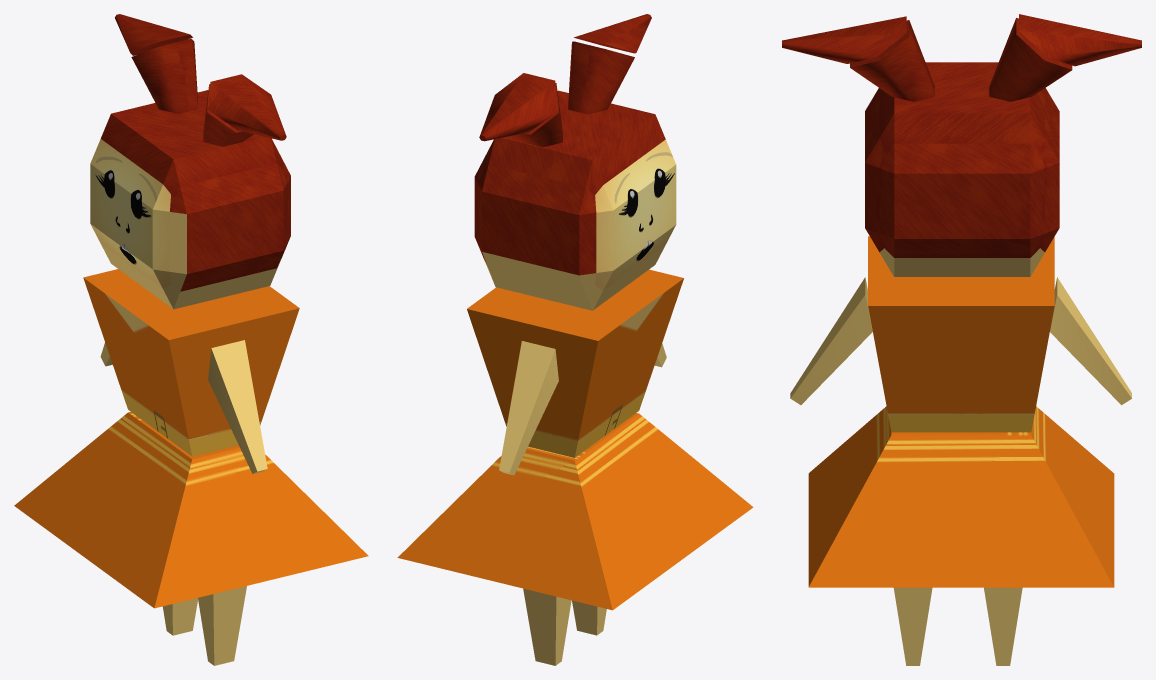
The model's file is girl_redhead_scared1.FBX.
3 views of the same model, side by side, from view 1: azimuth 30°, elevation 25°; view 2: azimuth 150°, elevation 25°; view 3: azimuth 270°, elevation 25° (orthographic). The views are drawn at different scales.
Parts seen in each view (by area): view 1: Box029, Box021, Box028, Cylinder003, Box039, Box027; view 2: Box029, Box021, Box028, Cylinder003, Box040, Box027; view 3: Box029, Box021, Box028, Cylinder003, Box027, Box039, Box040.
Part boxes in pixels (x1=…): Box029: x1=14, y1=412, x2=368, y2=608; Box021: x1=90, y1=90, x2=290, y2=309; Box028: x1=83, y1=269, x2=299, y2=456; Cylinder003: x1=115, y1=14, x2=286, y2=146; Box039: x1=208, y1=340, x2=267, y2=473; Box027: x1=162, y1=586, x2=246, y2=665; Box029: x1=397, y1=413, x2=753, y2=610; Box021: x1=474, y1=90, x2=676, y2=310; Box028: x1=467, y1=269, x2=683, y2=457; Cylinder003: x1=479, y1=14, x2=651, y2=147; Box040: x1=499, y1=341, x2=558, y2=475; Box027: x1=523, y1=588, x2=606, y2=665; Box029: x1=808, y1=406, x2=1114, y2=587; Box021: x1=865, y1=62, x2=1059, y2=276; Box028: x1=868, y1=236, x2=1054, y2=432; Cylinder003: x1=782, y1=14, x2=1141, y2=101; Box027: x1=893, y1=587, x2=1022, y2=665; Box039: x1=790, y1=277, x2=872, y2=404; Box040: x1=1050, y1=277, x2=1131, y2=405.
Bounding box in the file's own units: 19.84 × 51.87 × 26.45.
